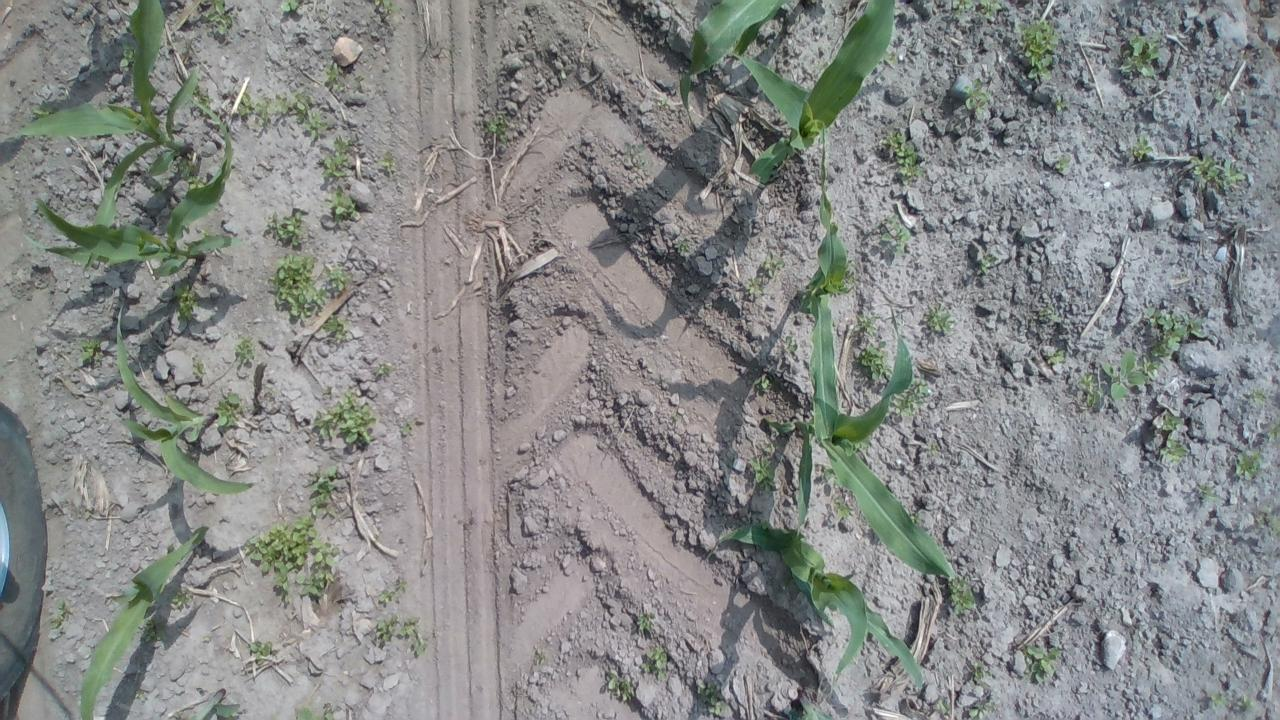Maize: (760, 262, 964, 594), (699, 516, 930, 710), (0, 0, 197, 224), (726, 0, 922, 182), (88, 295, 257, 502), (48, 129, 251, 278), (74, 524, 207, 693), (785, 126, 848, 439), (678, 0, 786, 115)
Weeds: (240, 518, 342, 606), (218, 87, 328, 136), (270, 246, 332, 318), (1078, 356, 1164, 406), (310, 394, 382, 450), (1016, 15, 1062, 88), (1150, 304, 1212, 358), (301, 461, 349, 515), (1186, 152, 1246, 195), (318, 129, 361, 189), (371, 613, 429, 657), (1119, 29, 1163, 86), (1154, 409, 1193, 472), (264, 205, 312, 250), (944, 574, 986, 620), (894, 376, 936, 422), (931, 691, 1008, 716), (884, 132, 920, 185), (854, 340, 891, 390), (326, 184, 366, 228), (744, 253, 782, 299), (1026, 642, 1062, 688), (1202, 684, 1256, 714), (617, 137, 655, 178), (876, 212, 910, 256), (202, 0, 238, 40), (919, 302, 958, 338), (226, 338, 261, 378), (747, 452, 785, 488), (605, 666, 642, 702), (480, 111, 514, 150), (944, 0, 1010, 20), (172, 280, 204, 321), (1186, 479, 1226, 511), (960, 86, 996, 121), (1230, 445, 1265, 481), (323, 62, 360, 96), (374, 575, 414, 606), (698, 676, 726, 719), (243, 634, 283, 664), (214, 388, 244, 426), (176, 160, 212, 190), (320, 314, 354, 343), (111, 42, 146, 70), (167, 584, 199, 614), (854, 310, 887, 339), (648, 640, 669, 684), (46, 598, 74, 629), (292, 702, 340, 720), (72, 339, 106, 364), (974, 249, 1002, 278), (831, 492, 857, 523), (329, 268, 354, 300), (368, 0, 402, 23), (962, 657, 992, 681), (397, 415, 424, 441), (666, 229, 692, 256), (187, 354, 210, 384), (1136, 136, 1158, 166), (139, 618, 164, 644), (1049, 153, 1076, 177), (268, 0, 306, 17), (1262, 504, 1280, 539), (748, 373, 774, 396), (372, 359, 394, 386), (1261, 418, 1280, 448), (638, 604, 656, 635), (1045, 349, 1070, 371), (376, 147, 395, 175), (1051, 92, 1073, 116), (1040, 302, 1060, 328), (1246, 384, 1265, 411), (780, 330, 799, 356), (1210, 86, 1228, 108)
